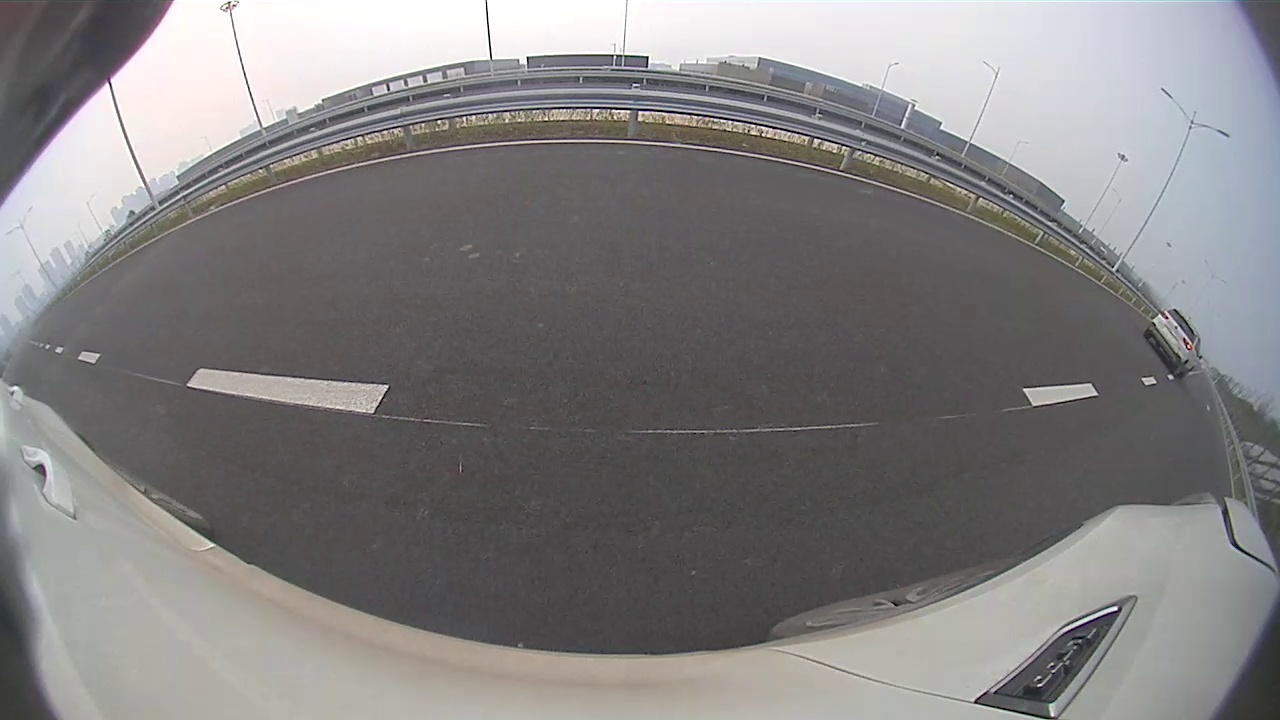car: (1143, 307, 1203, 376)
